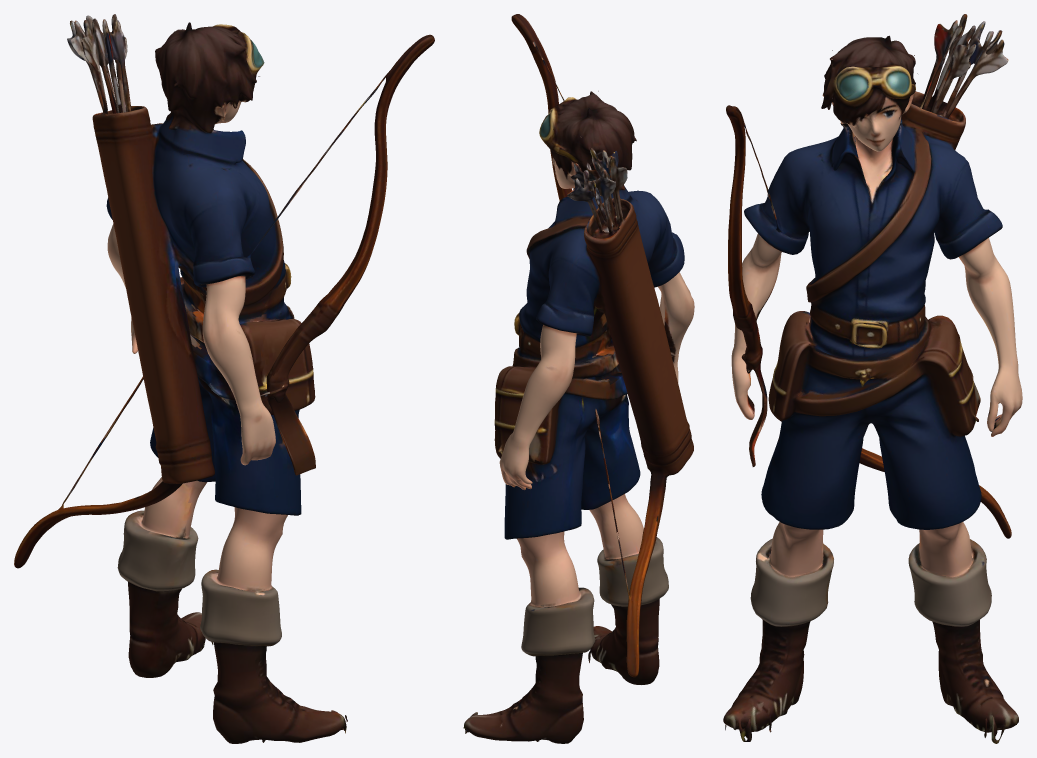
File: Amon.fbx
3 renders of one model, left to right at view 1: azimuth 30°, elevation 25°; view 2: azimuth 150°, elevation 25°; view 3: azimuth 270°, elevation 25°, orthographic. The views are drawn at different scales.
Parts seen in each view (by area): view 1: tripo_node_48f00f3d; view 2: tripo_node_48f00f3d; view 3: tripo_node_48f00f3d.
Boxes of the visible parts, x1,y1,x2,y2 form: tripo_node_48f00f3d: (14, 14, 434, 743); tripo_node_48f00f3d: (463, 14, 694, 743); tripo_node_48f00f3d: (723, 14, 1022, 743).
Size of the model in its own units: 0.4272 by 0.9963 by 0.4003.
1 material, 1 textured.
